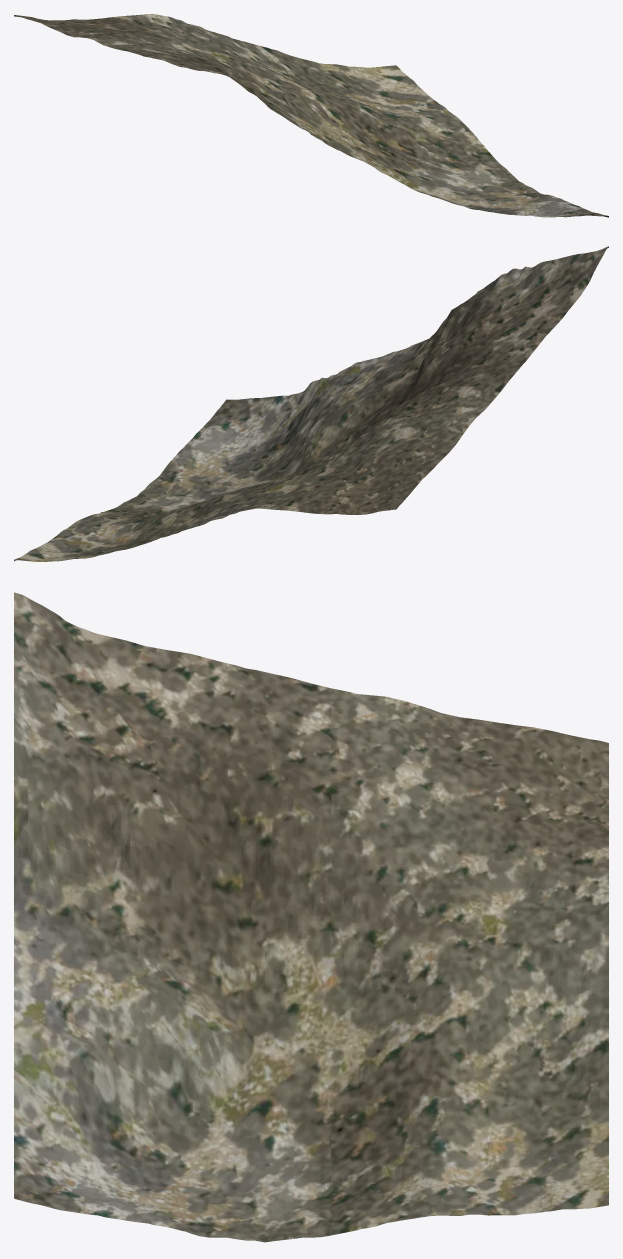
The picture shows the model from 3 angles, top to bottom: view 1: azimuth 30°, elevation 25°; view 2: azimuth 150°, elevation 25°; view 3: azimuth 270°, elevation 25°; orthographic projection. The views are drawn at different scales.
Bounding box in the file's own units: 250 × 175 × 241.
Materials: 1 (1 with a texture image).
